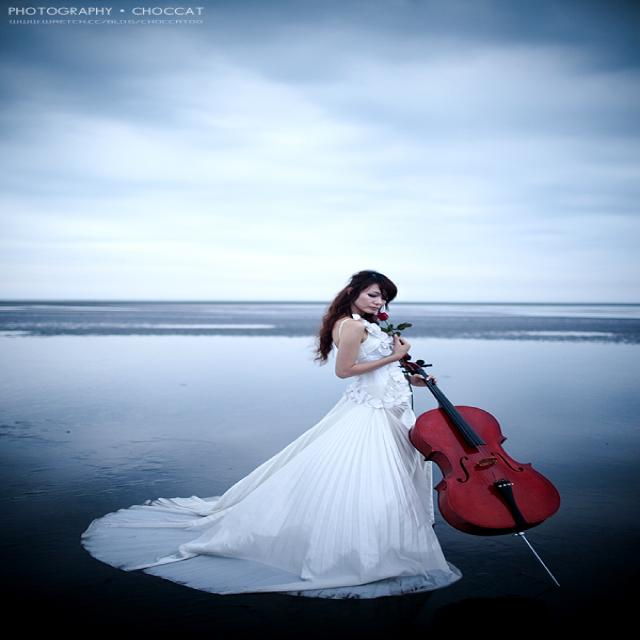cello: (397, 351, 569, 539)
